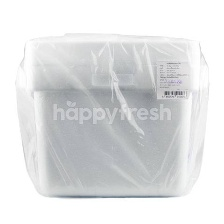foam_box: (10, 25, 214, 203)
